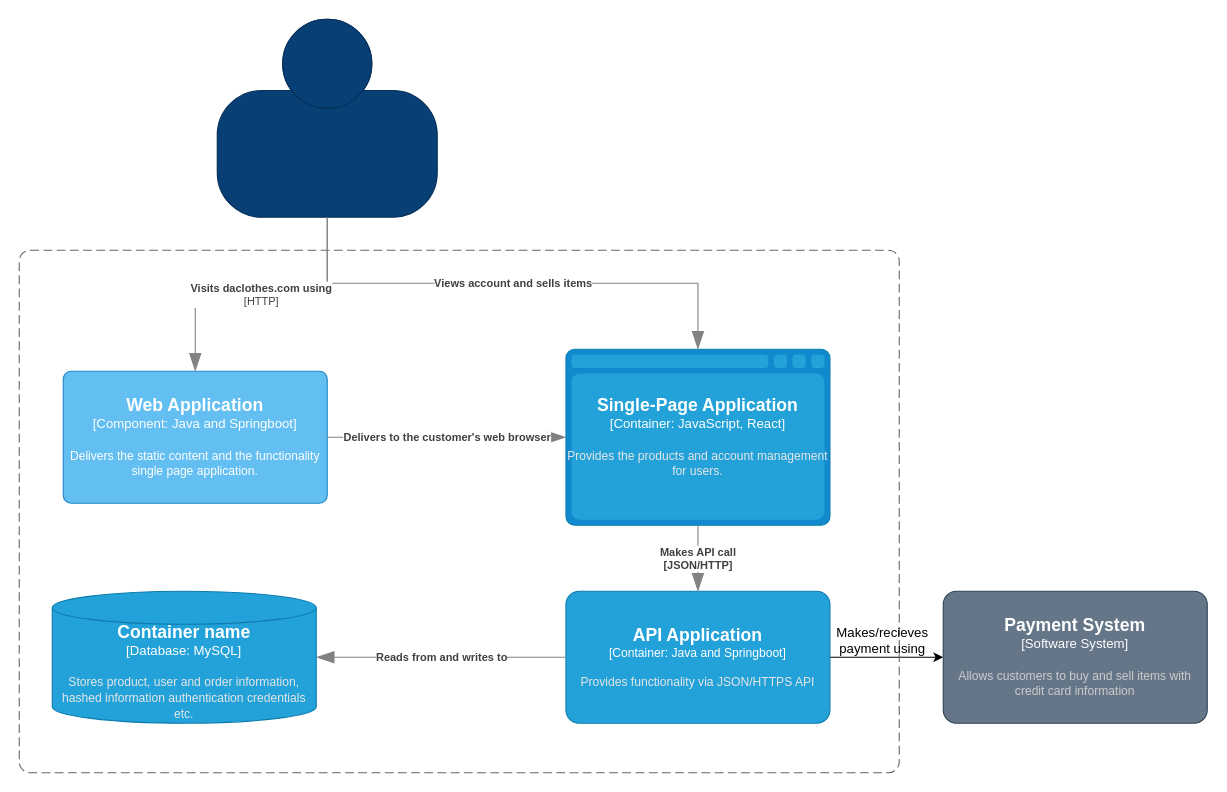
Some shapes in this 1227 by 792 pixel diagram are drawn without their labels. The shapes that lost their labels are listed below. From the top down, each one's box as (x1, y1, x2, y2) in pixels, then its label:
(216, 18, 437, 217): User [Buyer/Seller] Individual wanting to buy/sell products
(18, 249, 899, 773): Web Shop System [Software System]
